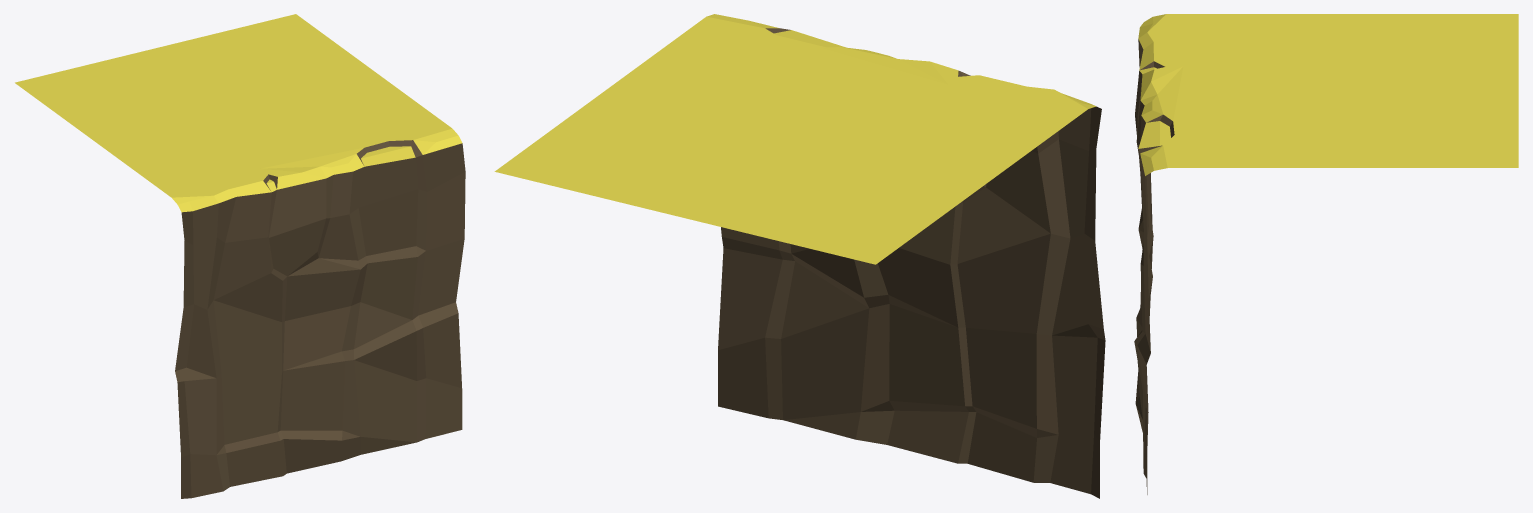
File: tile_Grassland_Side.fbx
3 views of the same model, side by side, from view 1: azimuth 30°, elevation 25°; view 2: azimuth 150°, elevation 25°; view 3: azimuth 270°, elevation 25° (orthographic). The views are drawn at different scales.
Visible parts, largest first — view 1: tileMesh; view 2: tileMesh; view 3: tileMesh.
Boxes of the visible parts, bbox=[...] form: tileMesh: bbox=[15, 14, 465, 498]; tileMesh: bbox=[494, 14, 1105, 498]; tileMesh: bbox=[1134, 14, 1518, 494].
Size of the model in its own units: 257 by 250 by 264.
